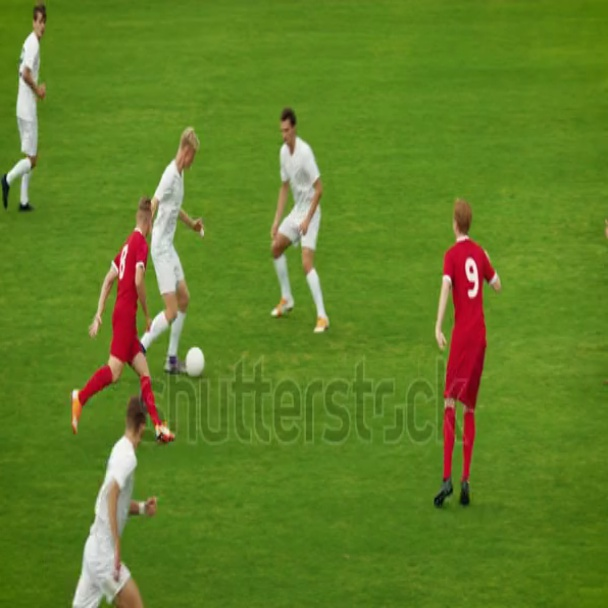ball: (180, 341, 210, 387)
